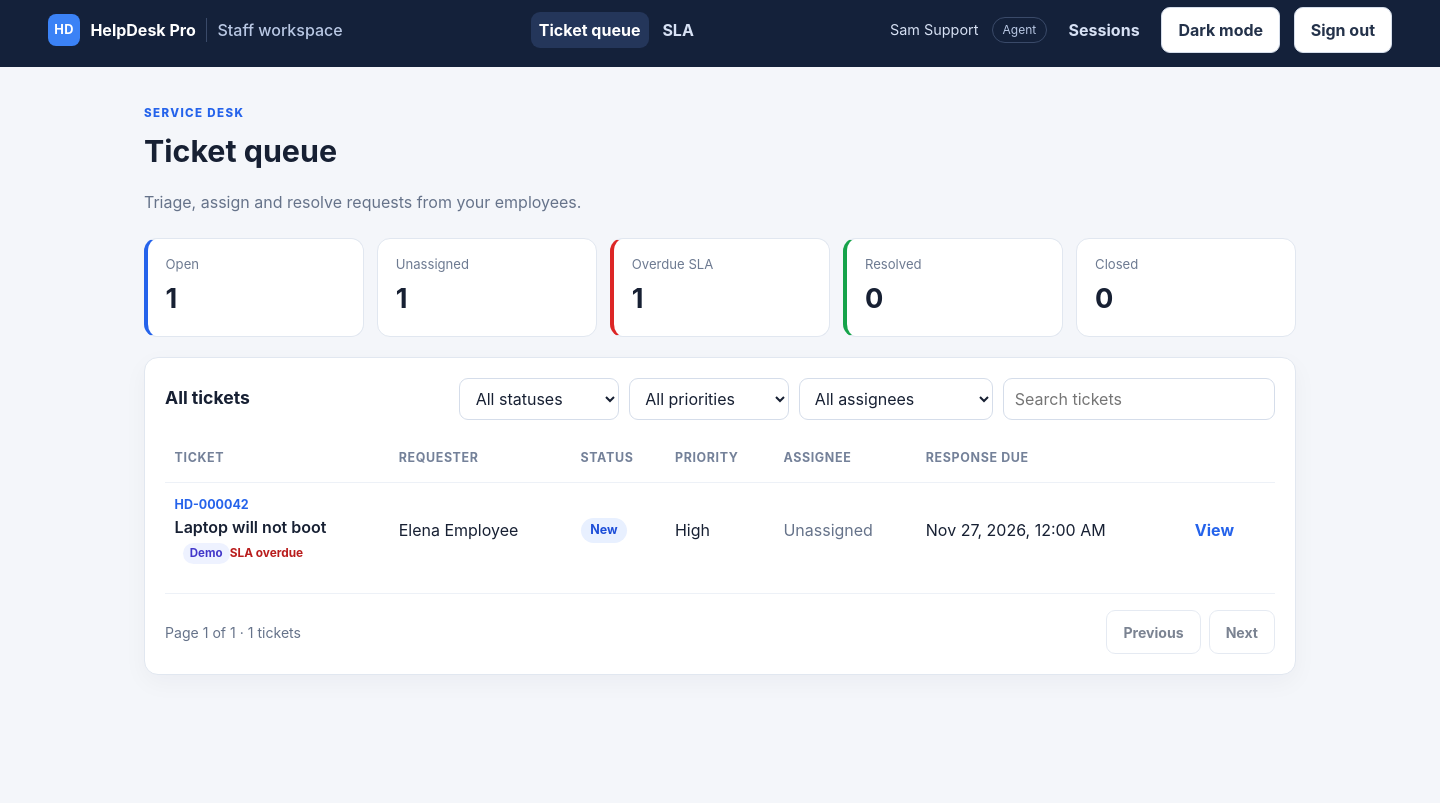
it: staff workspace › only offers backend-valid status transitions and disables no-op actions
expect the text "HD-000042" is shown: met, box x1=175 y1=497 x2=249 y2=512
Click the button "View" at (1214, 530), box x1=1187 y1=512 x2=1242 y2=548
(page scrolled)
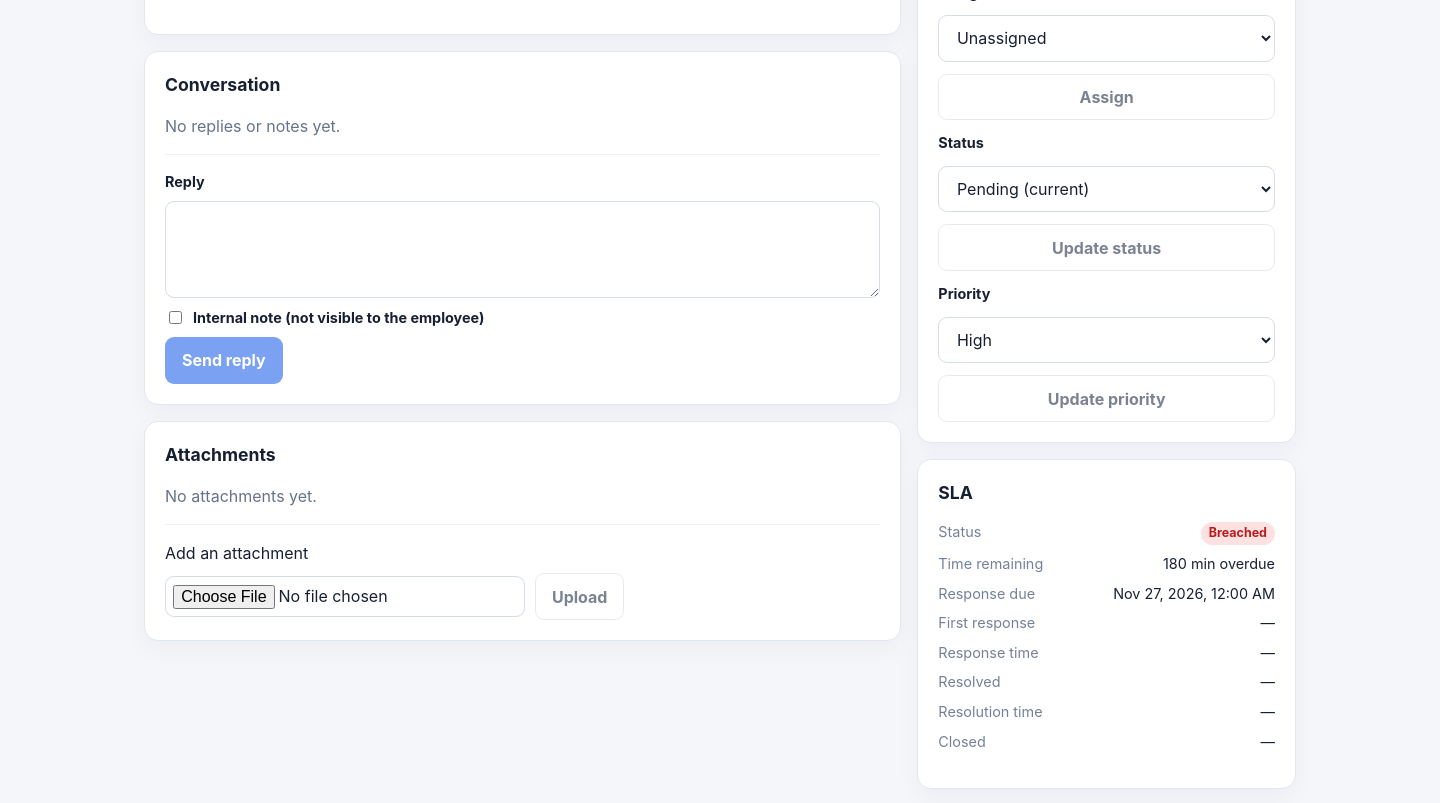
expect the button "Assign" is disabled: met, box x1=938 y1=74 x2=1275 y2=120
expect the button "Update status" is disabled: met, box x1=938 y1=224 x2=1275 y2=271
expect the button "Update priority" is disabled: met, box x1=938 y1=375 x2=1275 y2=422
